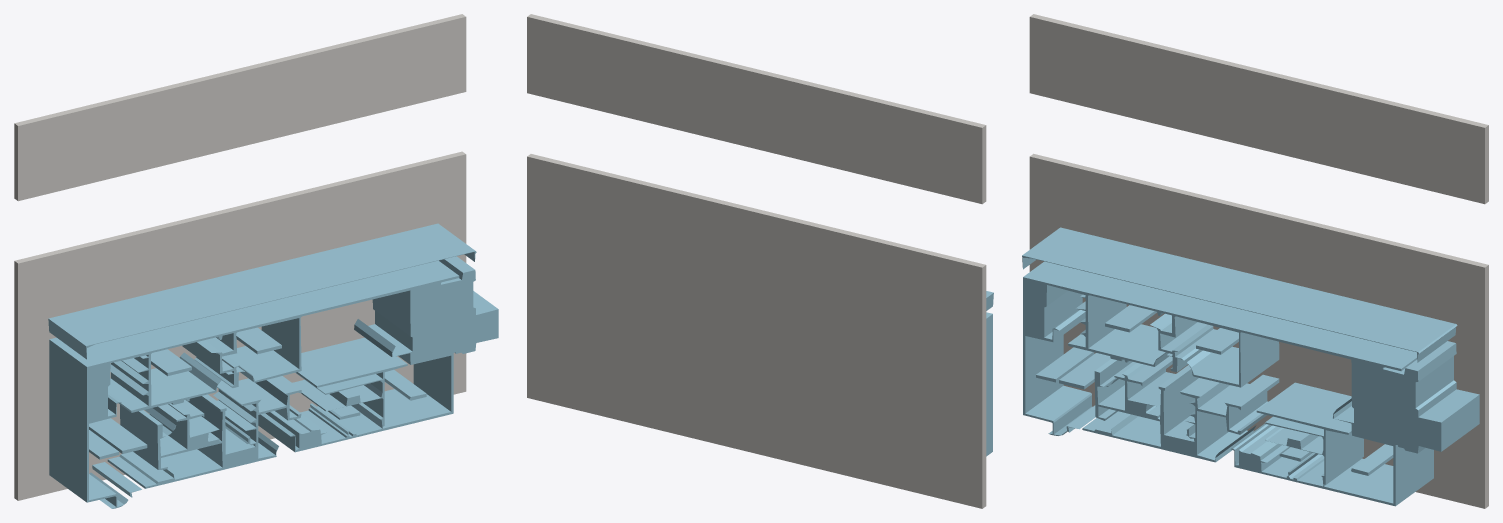
The picture shows the model from 3 angles, left to right: view 1: azimuth 30°, elevation 25°; view 2: azimuth 150°, elevation 25°; view 3: azimuth 330°, elevation 25°; orthographic projection.
Parts seen in each view (by area): view 1: world; view 2: world; view 3: world.
Boxes of the visible parts, x1=… form: world: x1=14, y1=14, x2=498, y2=508; world: x1=527, y1=14, x2=993, y2=508; world: x1=1022, y1=14, x2=1488, y2=508.
Bounding box in the file's own units: 10.23 × 8.18 × 1.64.
